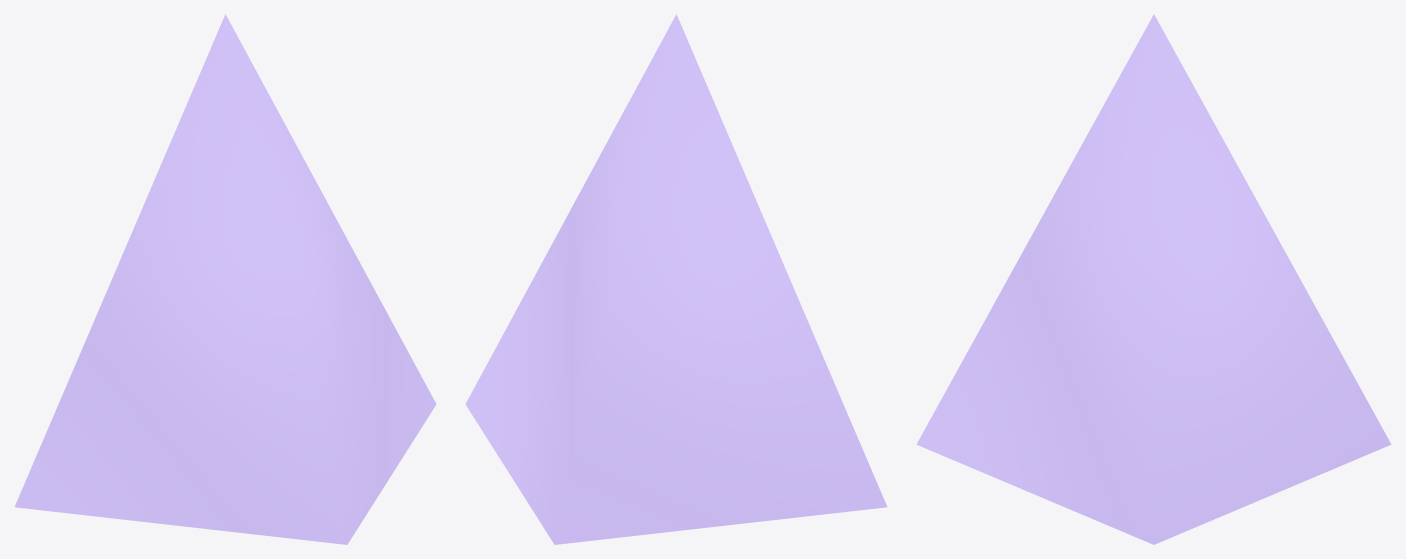
3 renders of one model, left to right at view 1: azimuth 30°, elevation 25°; view 2: azimuth 150°, elevation 25°; view 3: azimuth 270°, elevation 25°, orthographic. The views are drawn at different scales.
Parts seen in each view (by area): view 1: Shape_Pyramid; view 2: Shape_Pyramid; view 3: Shape_Pyramid.
Part boxes in pixels (box(x1,y1,x2,y2)): Shape_Pyramid: box(14, 14, 436, 544); Shape_Pyramid: box(465, 14, 887, 544); Shape_Pyramid: box(916, 14, 1391, 544).
Bounding box in the file's own units: 0.9 × 0.9 × 0.9.
